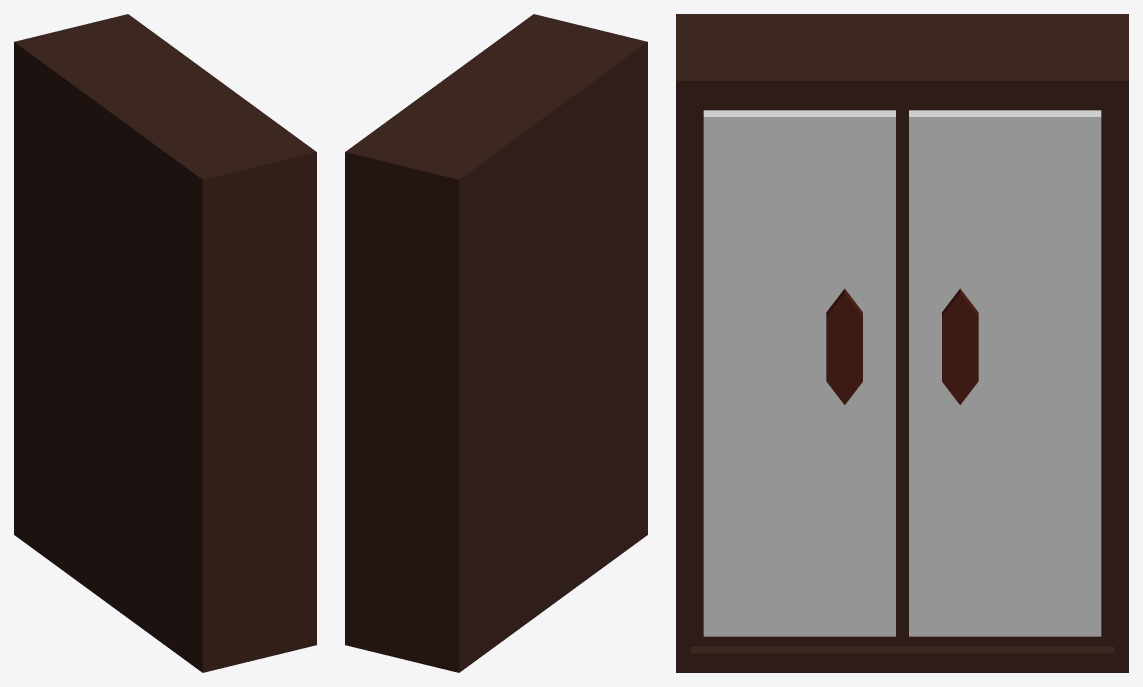
The model's file is Closet.fbx.
3 views of the same model, side by side, from view 1: azimuth 30°, elevation 25°; view 2: azimuth 150°, elevation 25°; view 3: azimuth 270°, elevation 25° (orthographic). The views are drawn at different scales.
Parts seen in each view (by area): view 1: Base; view 2: Base; view 3: Door R., Door L., Base, Handle R., Handle L..
Part boxes in pixels (box(x1,y1,x2,y2)): Base: box(14, 14, 316, 672); Base: box(345, 14, 647, 672); Door R.: box(703, 110, 895, 636); Door L.: box(909, 110, 1101, 636); Base: box(676, 14, 1128, 672); Handle R.: box(826, 288, 862, 404); Handle L.: box(942, 288, 978, 404).
Size of the model in its own units: 214 by 826 by 573.
